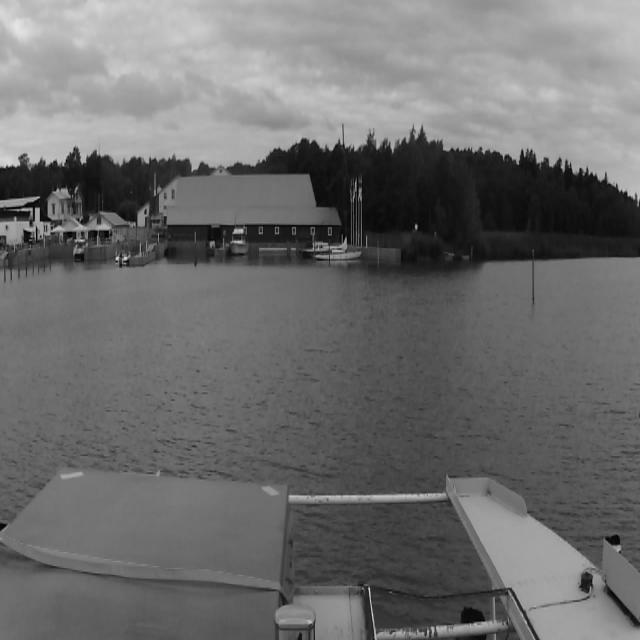buoy: (530, 250, 536, 301), (376, 241, 379, 263)
ship: (316, 172, 365, 266), (229, 228, 249, 254), (115, 248, 129, 267)
